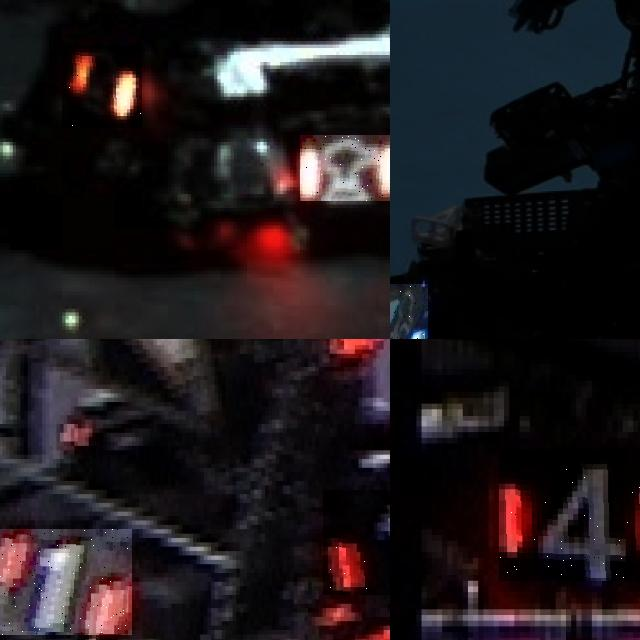Bs: (390, 284, 428, 339)
R1: (0, 529, 132, 634), (322, 490, 390, 595)
R4: (499, 449, 640, 580)
Rs: (62, 45, 142, 128), (299, 135, 390, 201)
